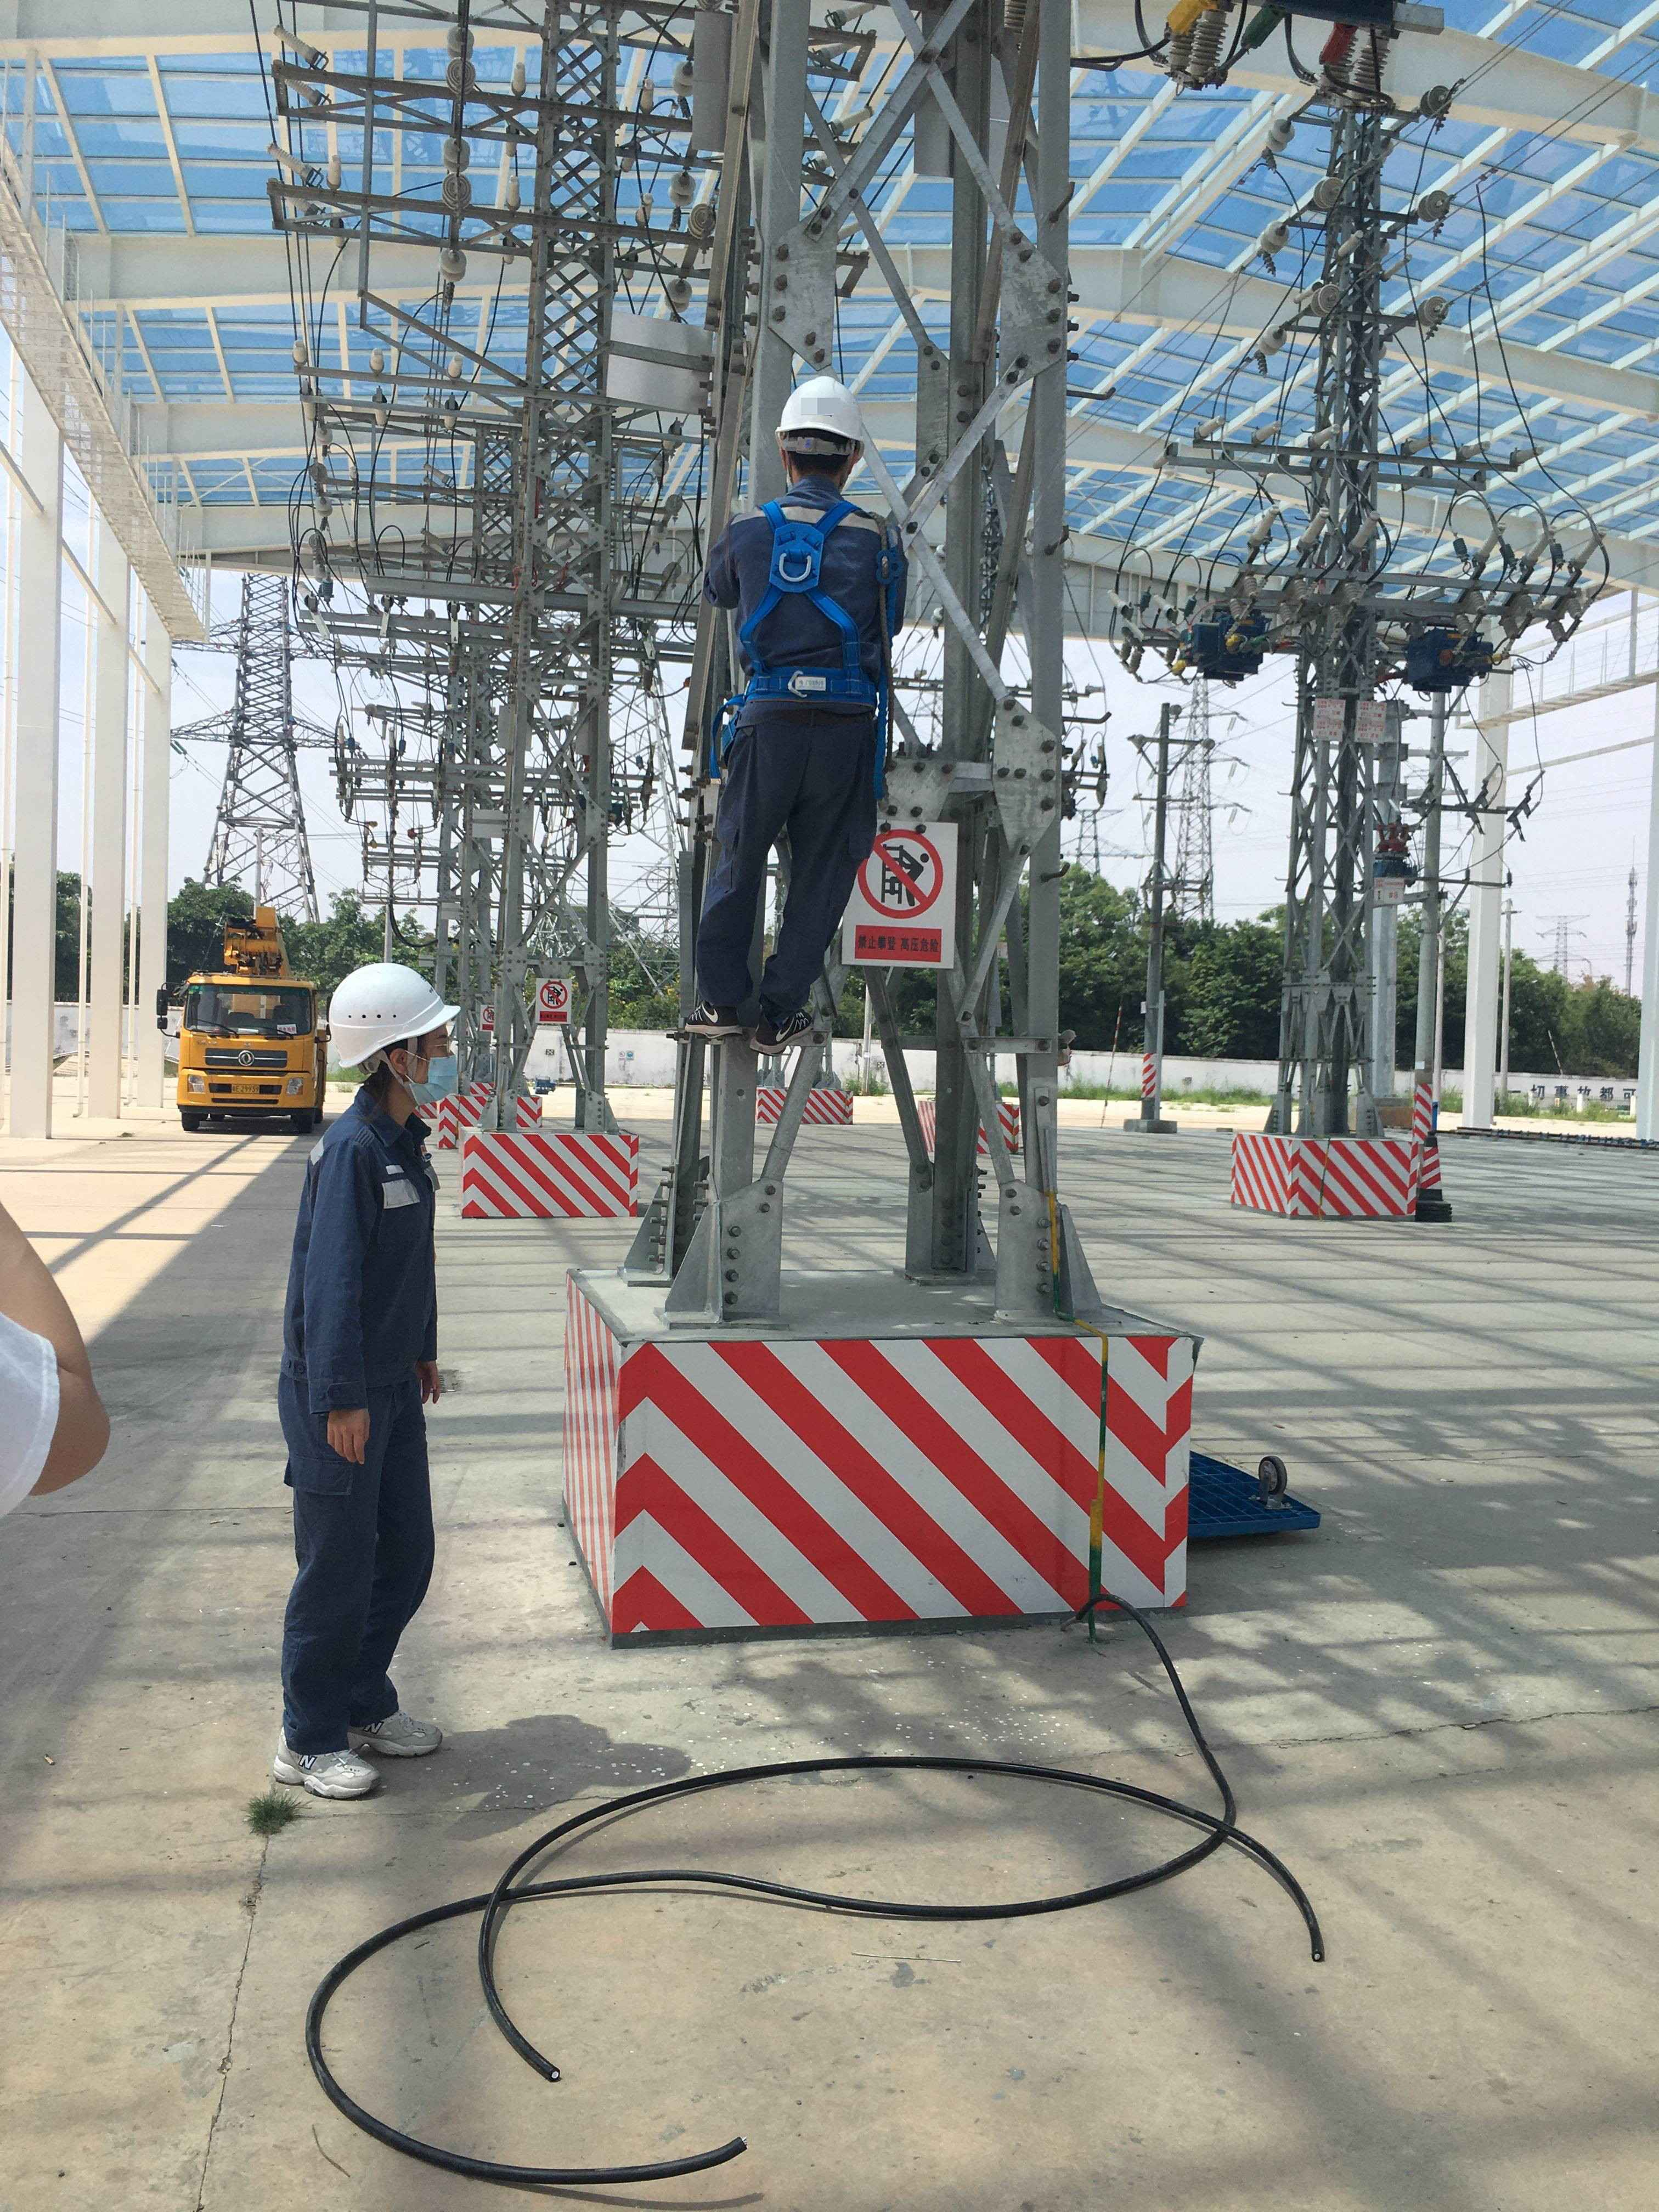downsuit: (688, 716, 890, 1021), (274, 1407, 444, 1754)
upsuit: (277, 1109, 448, 1397), (720, 493, 899, 686)
